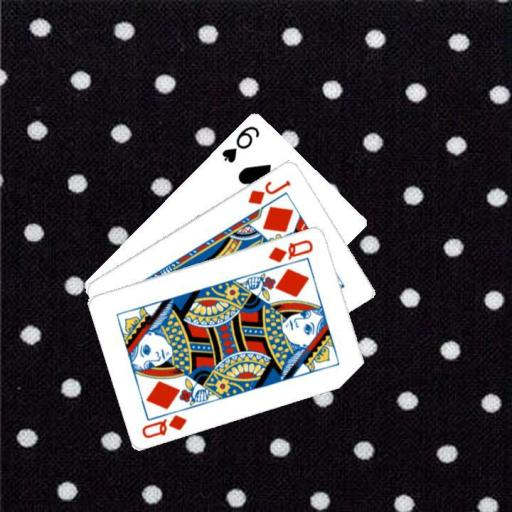6S: (218, 123, 262, 165)
JD: (245, 177, 292, 207)
QD: (265, 235, 315, 264), (139, 411, 189, 439)
